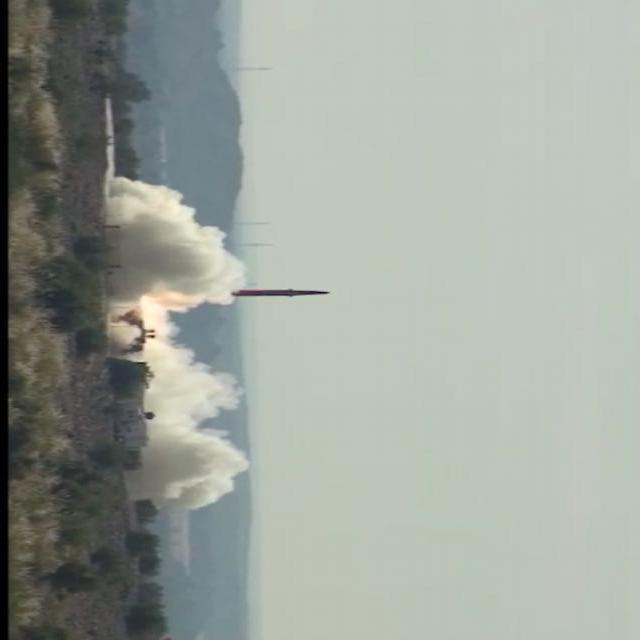missile: (227, 285, 338, 300)
